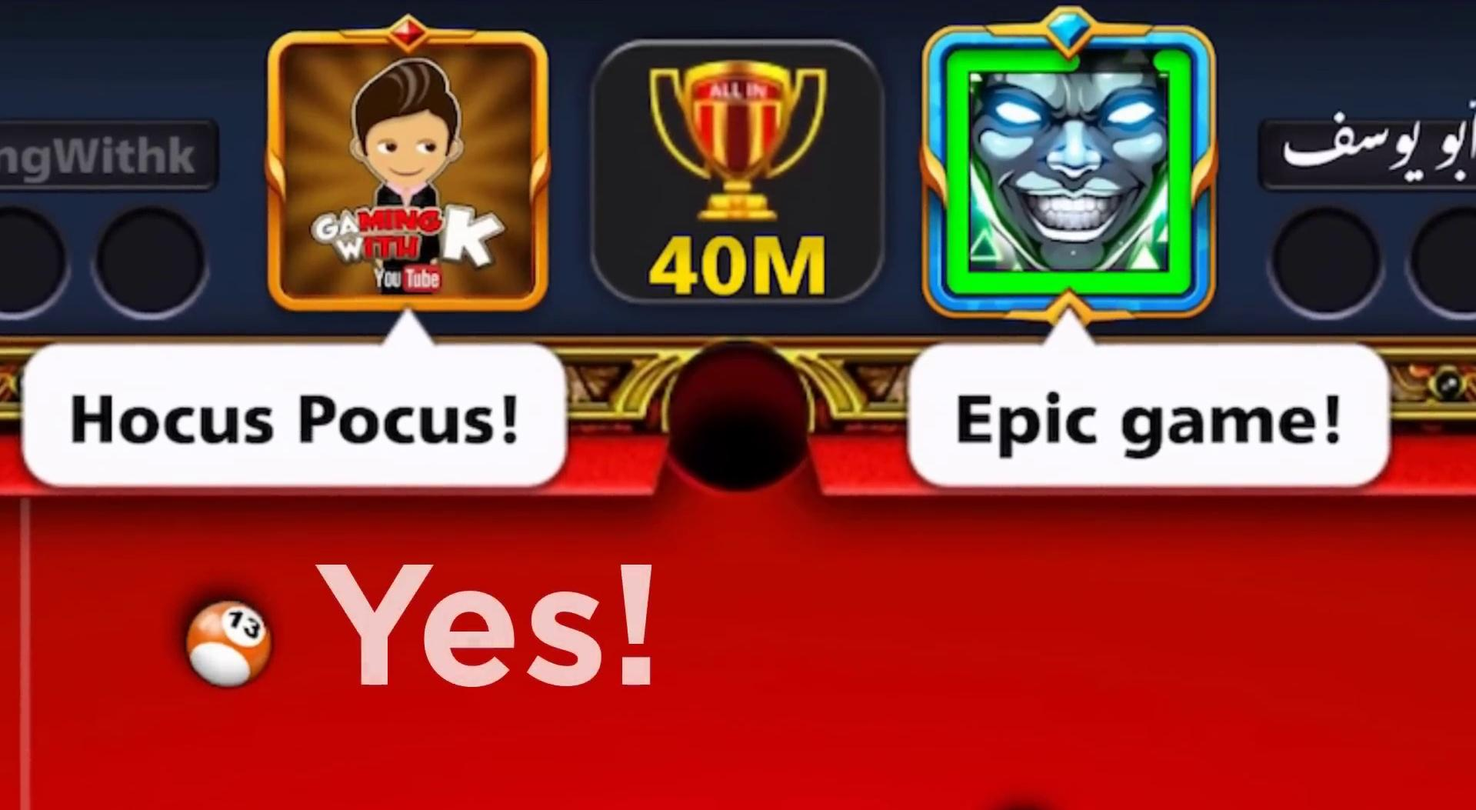Ball: (179, 597, 277, 691)
Hole: (654, 338, 824, 509)
